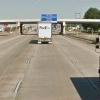Bridge: (6, 10, 98, 26)
